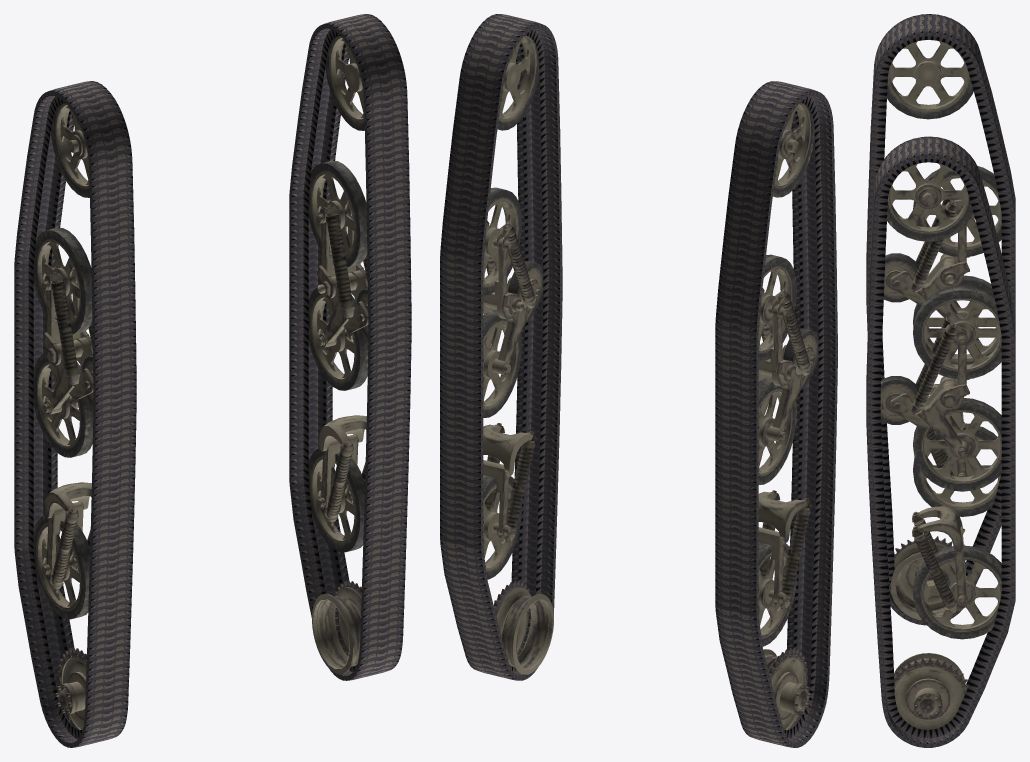
The model's file is Chassis.glb.
3 views of the same model, side by side, from view 1: azimuth 30°, elevation 25°; view 2: azimuth 150°, elevation 25°; view 3: azimuth 270°, elevation 25° (orthographic). The views are drawn at different scales.
Visible parts, largest first — view 1: set_0_group_0, set_1_group_0, set_3_group_0, set_2_group_0; view 2: set_0_group_0, set_1_group_0, set_3_group_0, set_2_group_0; view 3: set_3_group_0, set_1_group_0, set_2_group_0, set_0_group_0.
Boxes of the visible parts, bbox=[...] form: set_0_group_0: bbox=[14, 81, 136, 747]; set_1_group_0: bbox=[289, 14, 411, 680]; set_3_group_0: bbox=[308, 36, 368, 674]; set_2_group_0: bbox=[33, 103, 128, 729]; set_0_group_0: bbox=[715, 81, 837, 747]; set_1_group_0: bbox=[440, 14, 562, 680]; set_3_group_0: bbox=[483, 36, 553, 674]; set_2_group_0: bbox=[758, 103, 818, 729]; set_3_group_0: bbox=[880, 162, 1001, 729]; set_1_group_0: bbox=[866, 136, 1015, 747]; set_2_group_0: bbox=[883, 39, 1001, 620]; set_0_group_0: bbox=[866, 14, 1015, 625].
Bounding box in the file's own units: 1.88 × 3.66 × 0.8349.
4 materials, 4 textured.
